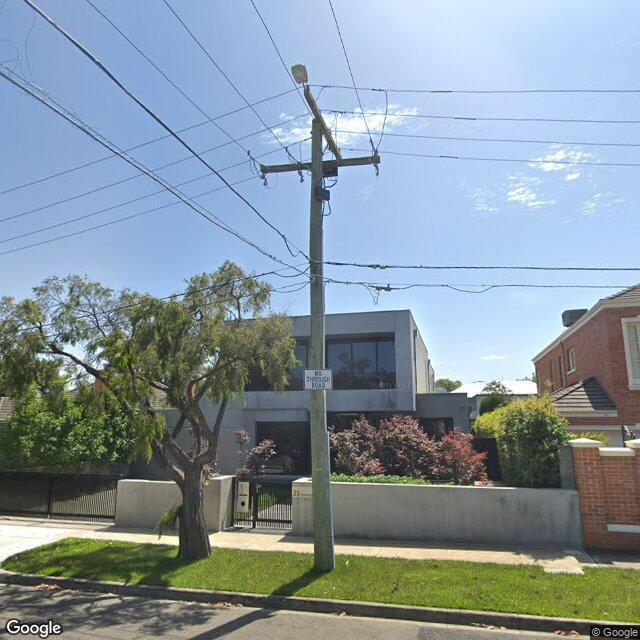crossarm: (304, 89, 341, 161), (260, 156, 380, 173)
streetlight: (292, 64, 308, 90)
timber-pole: (310, 118, 334, 572)
